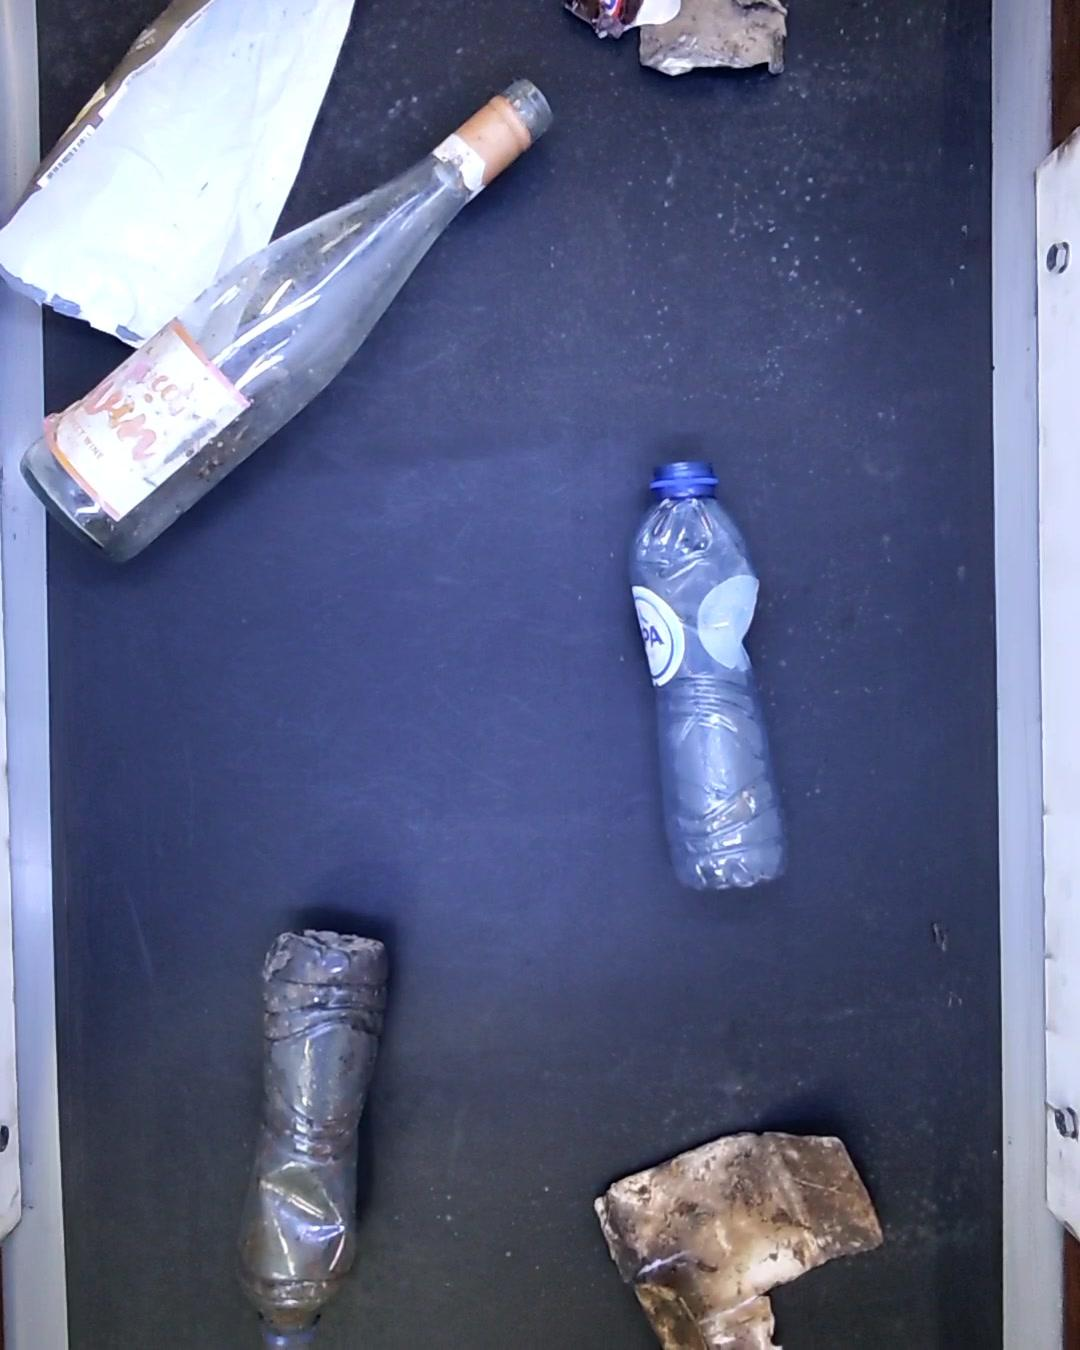Drankflessen - 1-2 liter: (625, 455, 788, 897), (242, 927, 393, 1347)
Snoep snack en chips verpakkingen: (549, 0, 677, 43)
Voedselverpakkingen: (0, 0, 356, 354)
